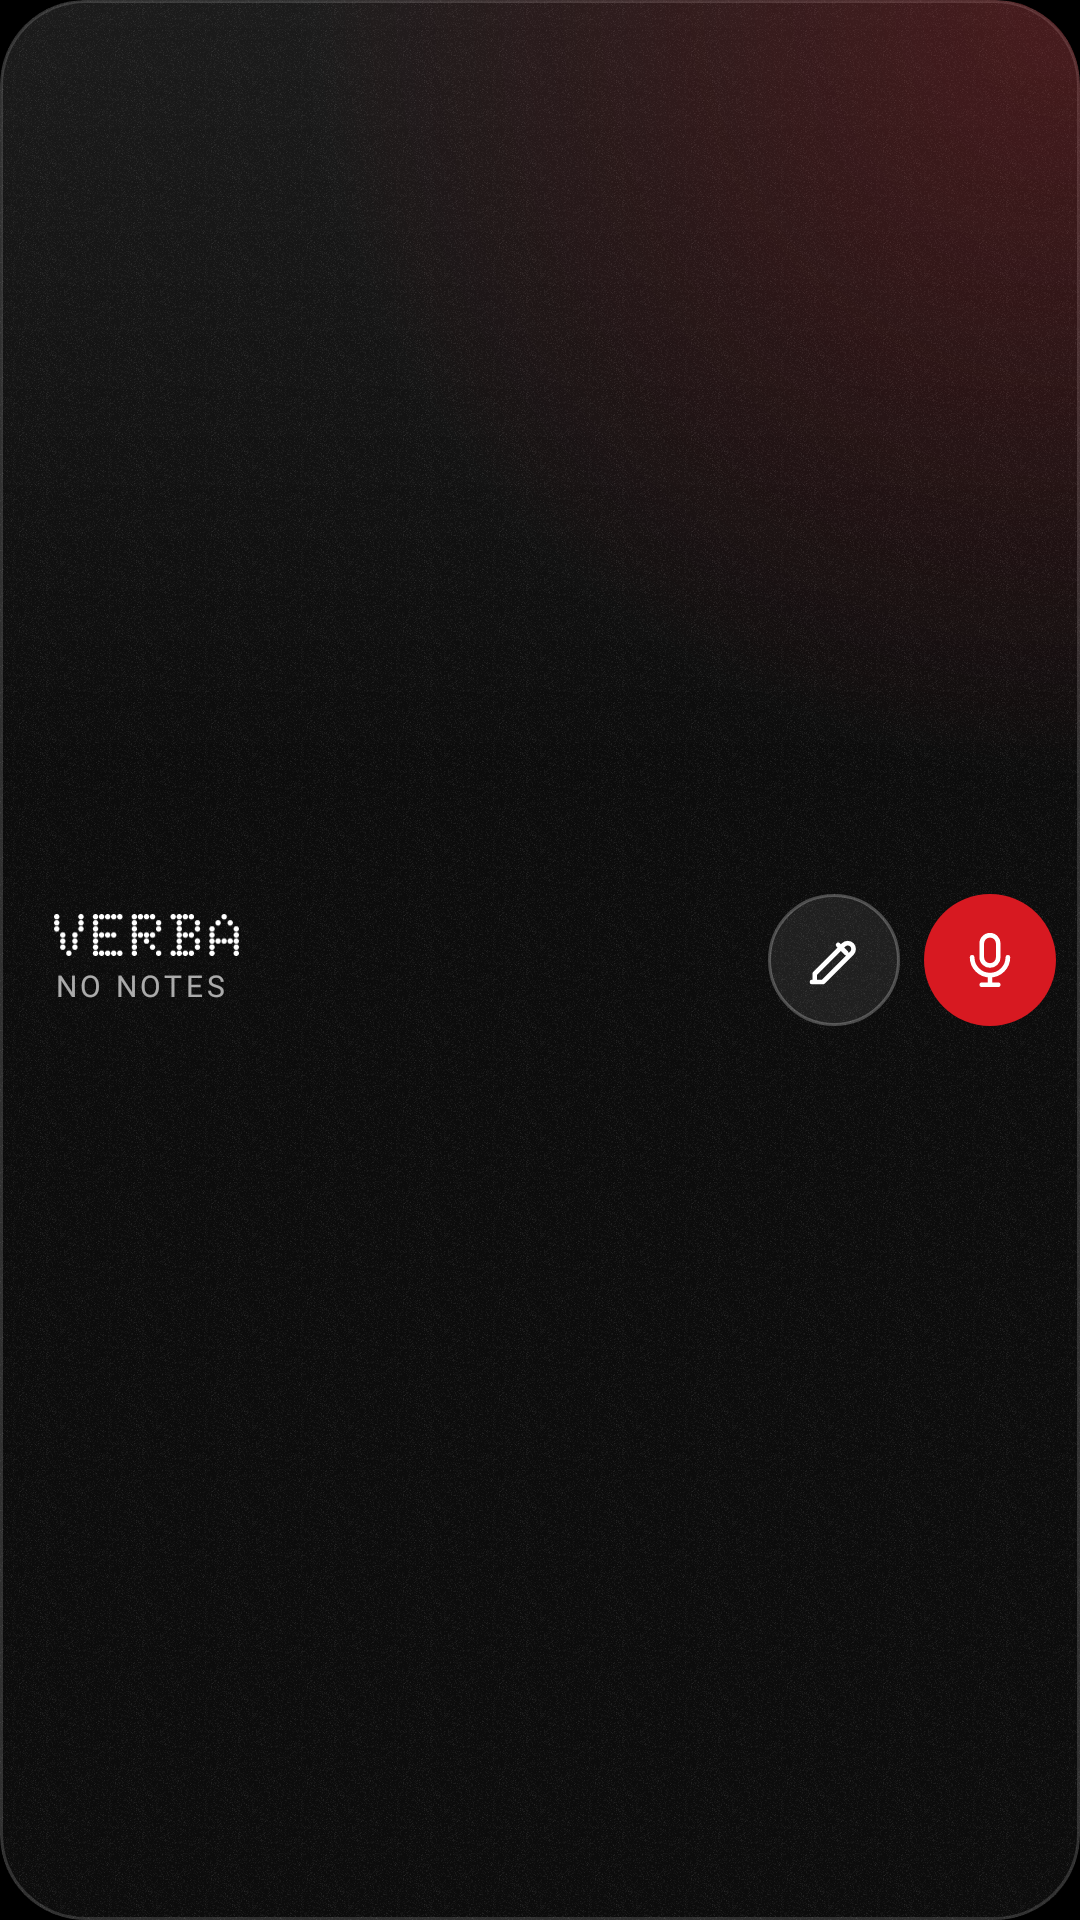

Named icons in this screenshot (1080*1920) and their bounding boxes, (x1, y1, x2, y2):
mic: (924, 894, 1056, 1026)
New text note: (768, 894, 900, 1026)
